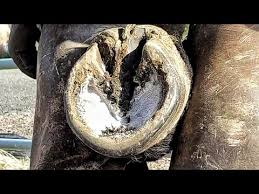horsesole: (63, 33, 192, 158)
